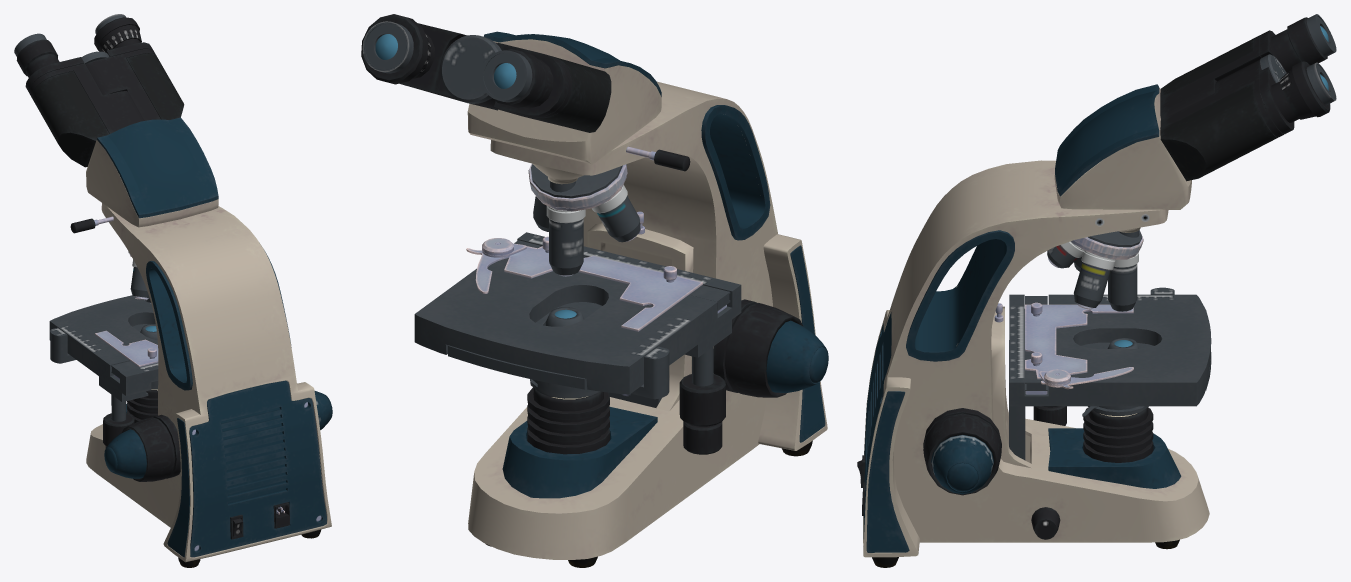
File: microscope_med.glb
3 renders of one model, left to right at view 1: azimuth 30°, elevation 25°; view 2: azimuth 150°, elevation 25°; view 3: azimuth 270°, elevation 25°, orthographic. The views are drawn at different scales.
Parts seen in each view (by area): view 1: MicroscopeBase_LowPoly__0; view 2: MicroscopeBase_LowPoly__0; view 3: MicroscopeBase_LowPoly__0.
Part boxes in pixels (x1,y1,x2,y2): MicroscopeBase_LowPoly__0: (14,14,332,567); MicroscopeBase_LowPoly__0: (361,14,828,567); MicroscopeBase_LowPoly__0: (857,14,1336,567).
Size of the model in its own units: 30.47 by 51.96 by 46.34.
Materials: 1 (1 with a texture image).
